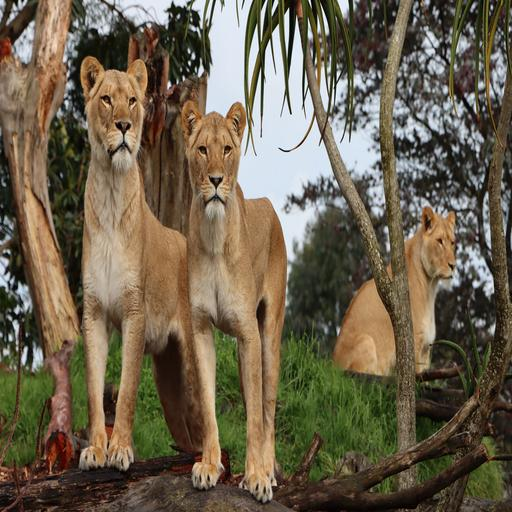Lion: (56, 52, 228, 488), (166, 97, 300, 512), (326, 196, 472, 390)
